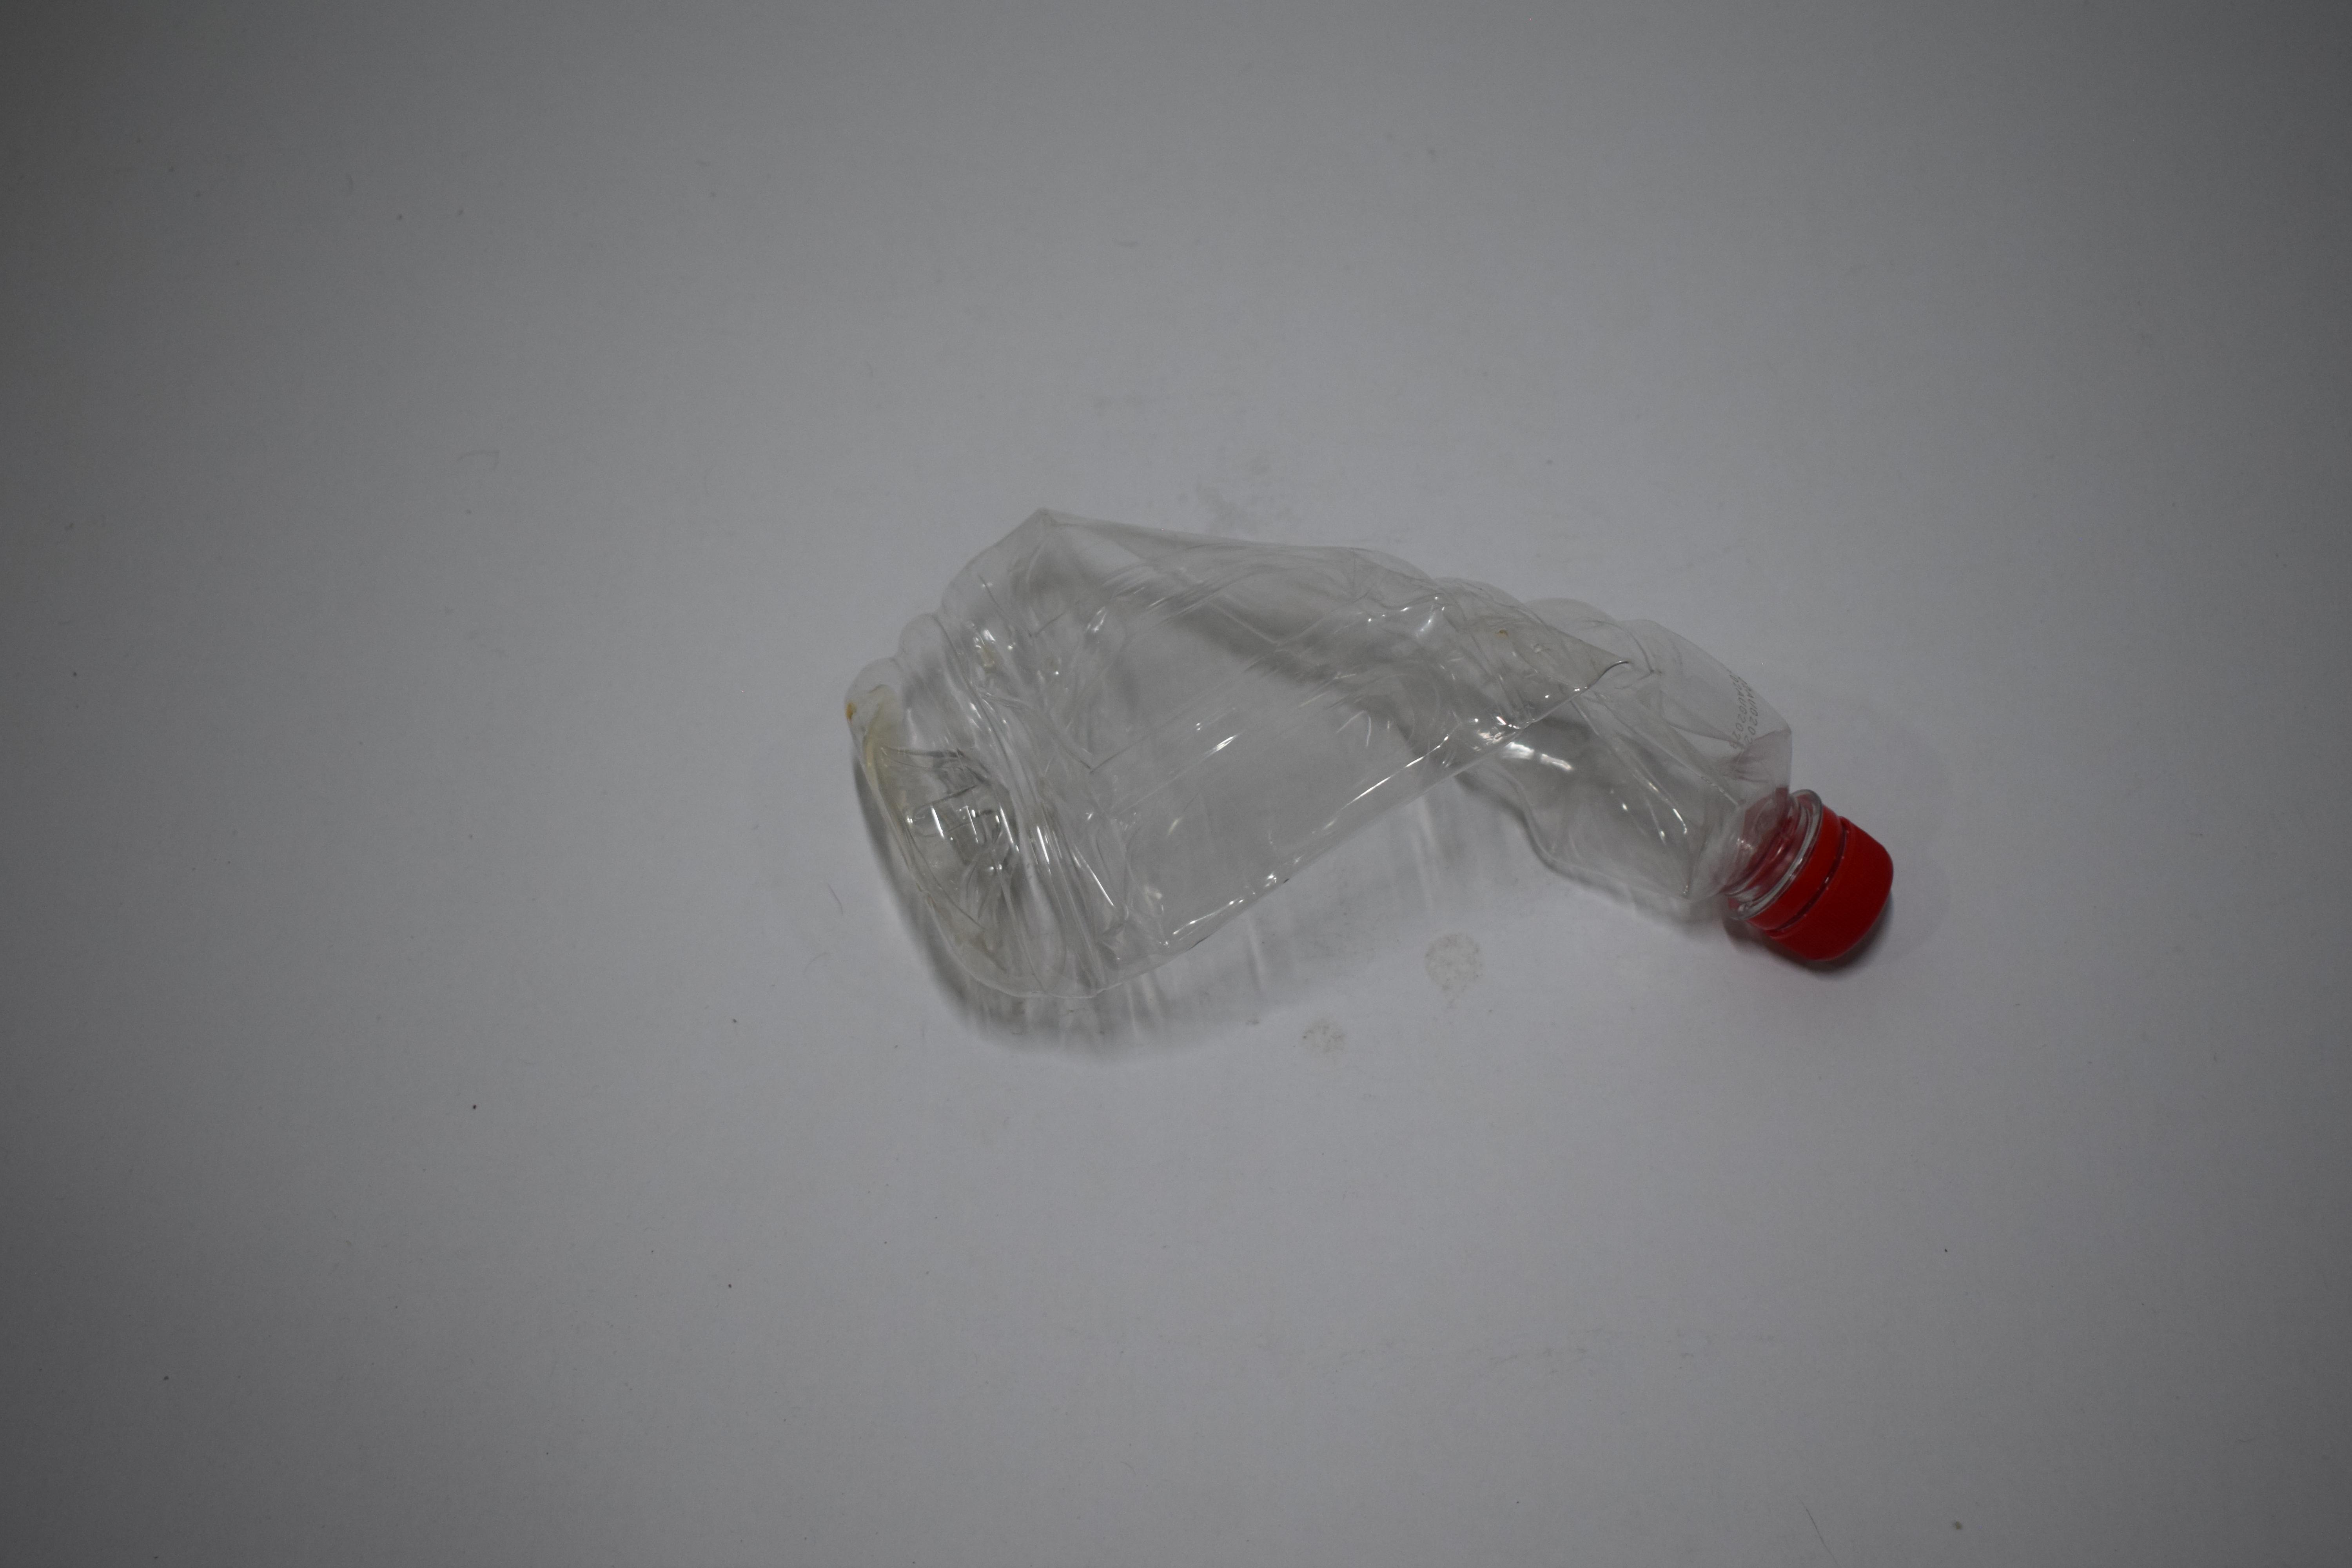bottle: (0, 502, 665, 1006)
